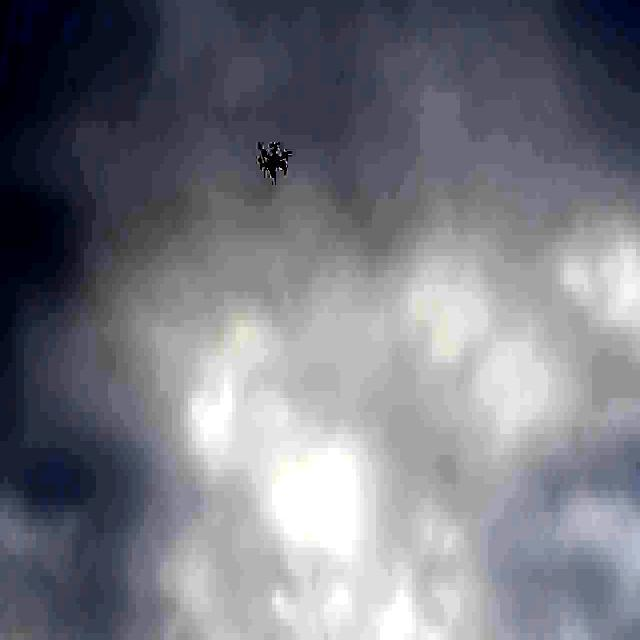drone: (255, 134, 296, 191)
